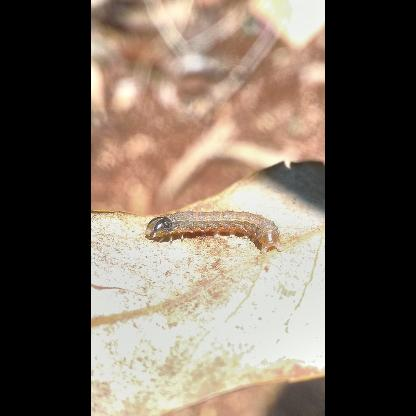Fall Armyworm Larvae: (139, 204, 289, 258)
